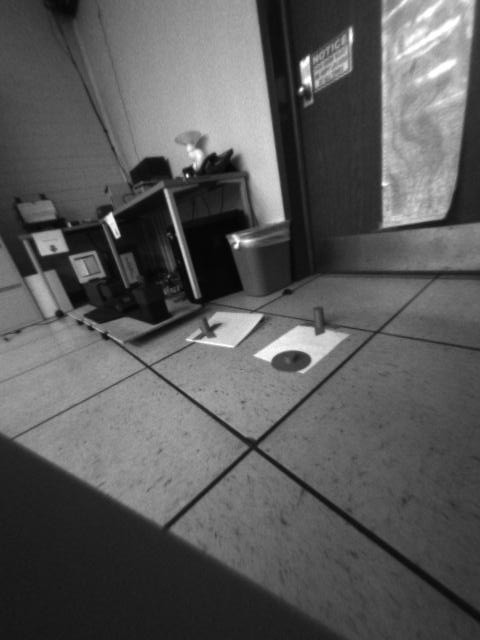X: (299, 307, 341, 335), (190, 315, 221, 339)
